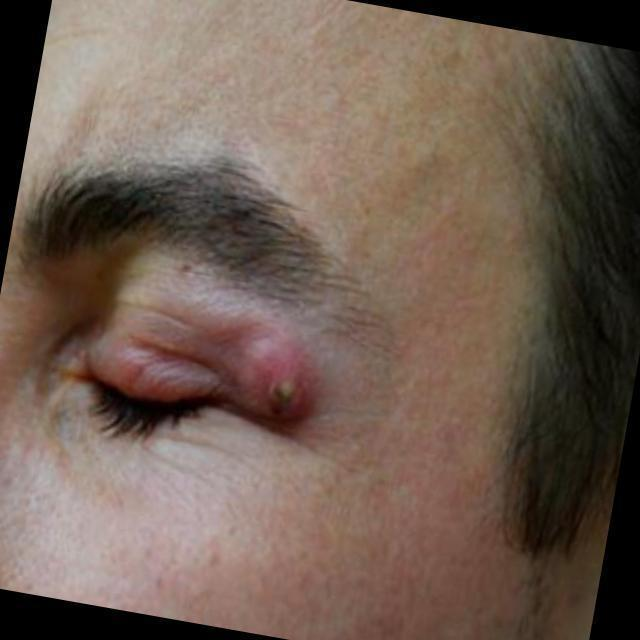Stye: (162, 306, 410, 469)
